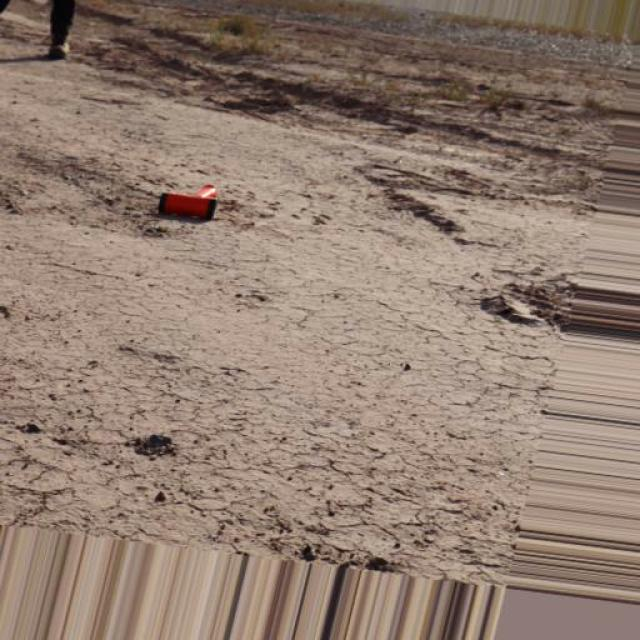mallet: (156, 182, 218, 222)
